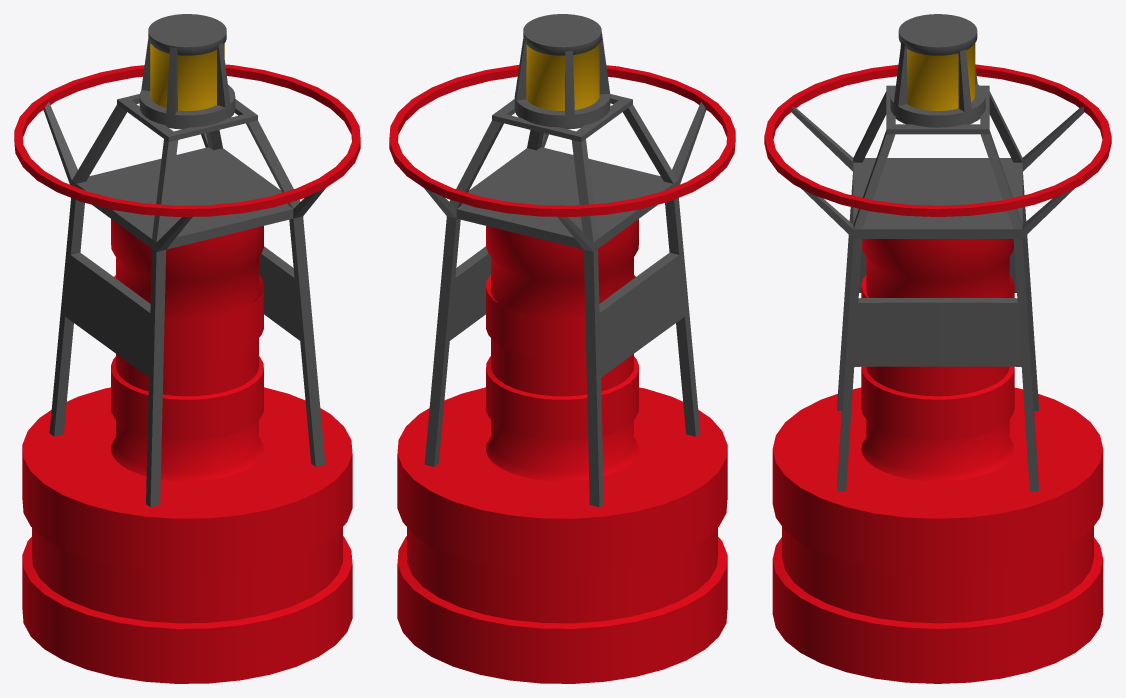
Rendered from Boi.fbx.
3 renders of one model, left to right at view 1: azimuth 30°, elevation 25°; view 2: azimuth 150°, elevation 25°; view 3: azimuth 270°, elevation 25°, orthographic.
Visible parts, largest first — view 1: Cylinder, Plane, Cylinder.001, Circle; view 2: Cylinder, Plane, Cylinder.001, Circle; view 3: Cylinder, Plane, Cylinder.001, Circle.
Part boxes in pixels (left/top/right/bottom): Cylinder: left=22, top=219, right=352, bottom=683; Plane: left=43, top=94, right=325, bottom=507; Cylinder.001: left=139, top=14, right=235, bottom=129; Circle: left=14, top=64, right=360, bottom=216; Cylinder: left=397, top=219, right=727, bottom=683; Plane: left=424, top=94, right=706, bottom=507; Cylinder.001: left=514, top=14, right=610, bottom=129; Circle: left=389, top=65, right=735, bottom=216; Cylinder: left=772, top=239, right=1103, bottom=683; Plane: left=791, top=85, right=1084, bottom=491; Cylinder.001: left=890, top=14, right=985, bottom=127; Circle: left=764, top=64, right=1111, bottom=216.
Bounding box in the file's own units: 210 × 389 × 210.
